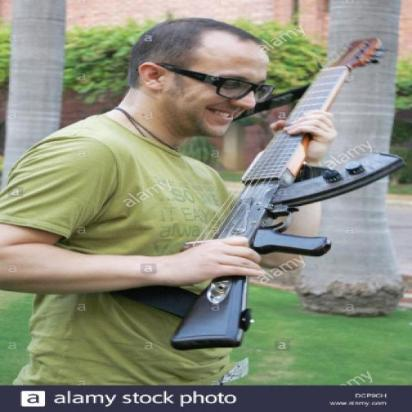Gun: (172, 31, 407, 364)
